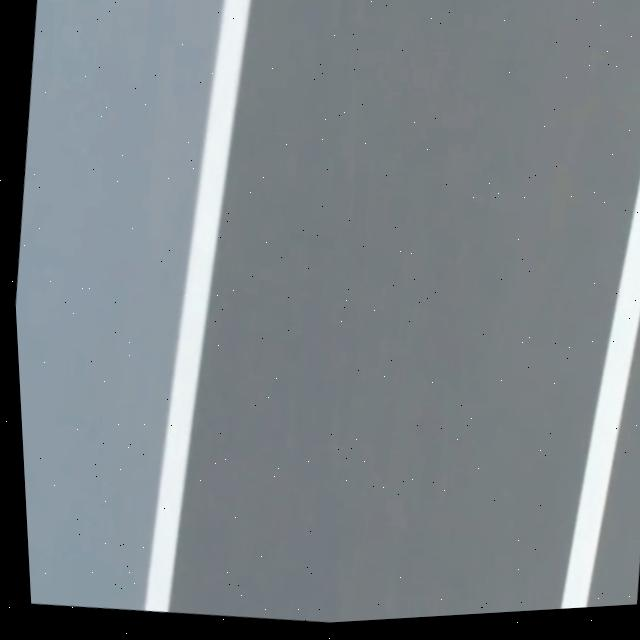center: (559, 177, 640, 609)
left: (144, 0, 250, 612)
